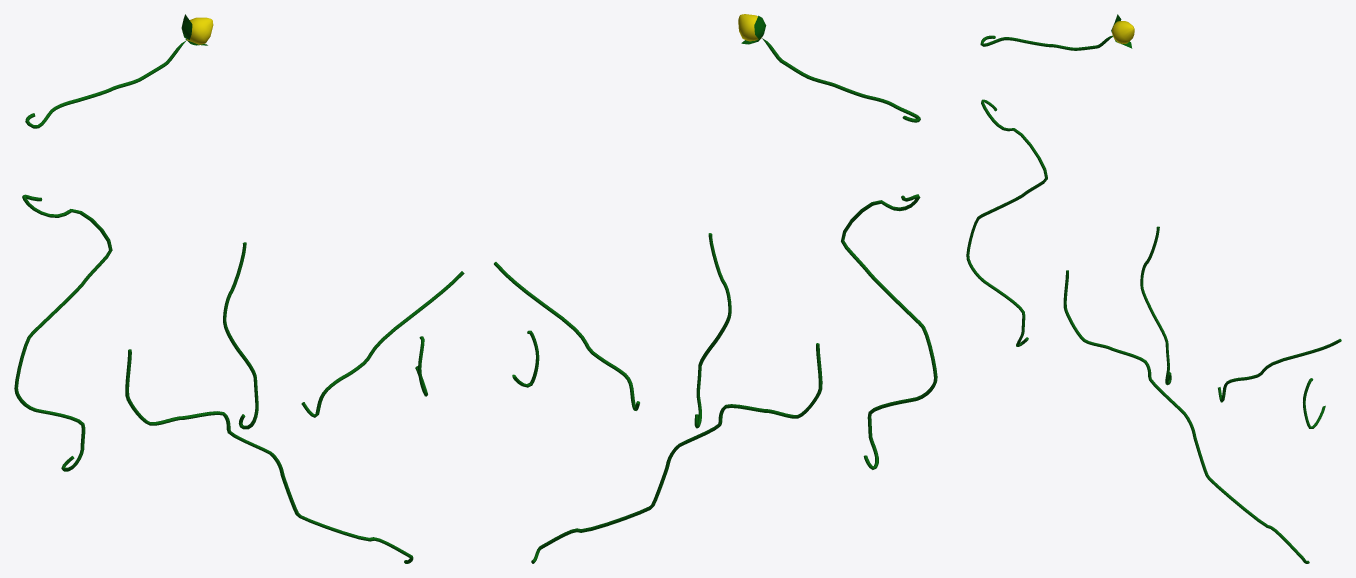
File: SM_VineSet.000.fbx
The picture shows the model from 3 angles, left to right: view 1: azimuth 30°, elevation 25°; view 2: azimuth 150°, elevation 25°; view 3: azimuth 330°, elevation 25°; orthographic projection. The views are drawn at different scales.
Parts seen in each view (by area): view 1: SM_VineSet_000; view 2: SM_VineSet_000; view 3: SM_VineSet_000.
Part boxes in pixels (<box>): SM_VineSet_000: <box>14,14,464,563</box>; SM_VineSet_000: <box>494,14,937,563</box>; SM_VineSet_000: <box>966,14,1341,563</box>.
Size of the model in its own units: 39.06 by 531 by 686.
